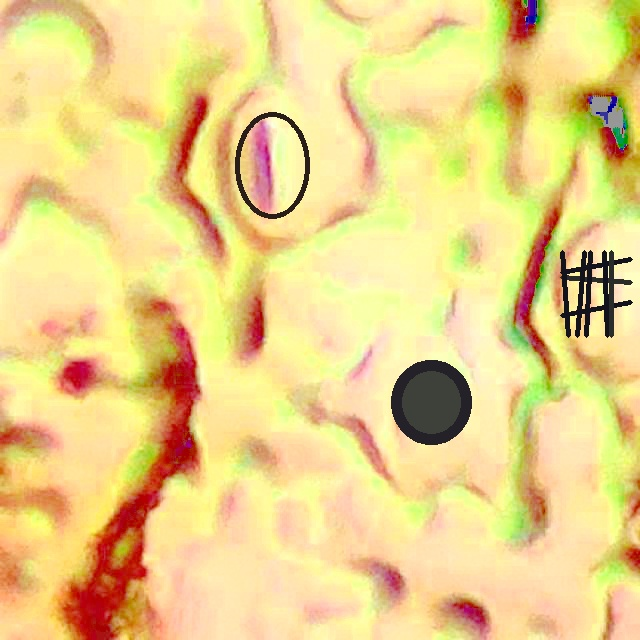close: (233, 111, 310, 218), (390, 361, 472, 444), (560, 250, 632, 337)
